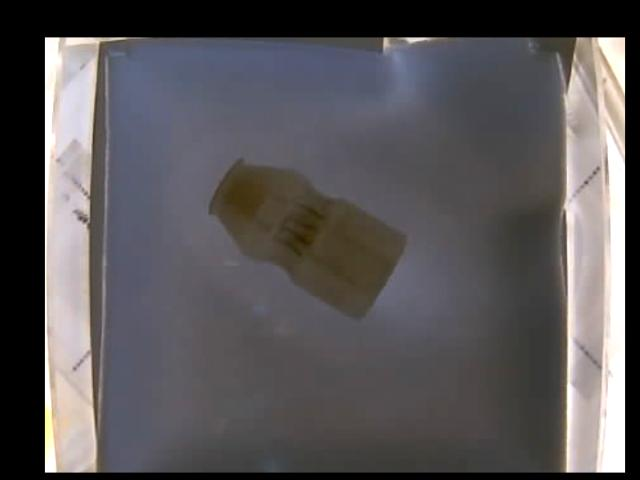Bottle: (206, 156, 409, 321)
